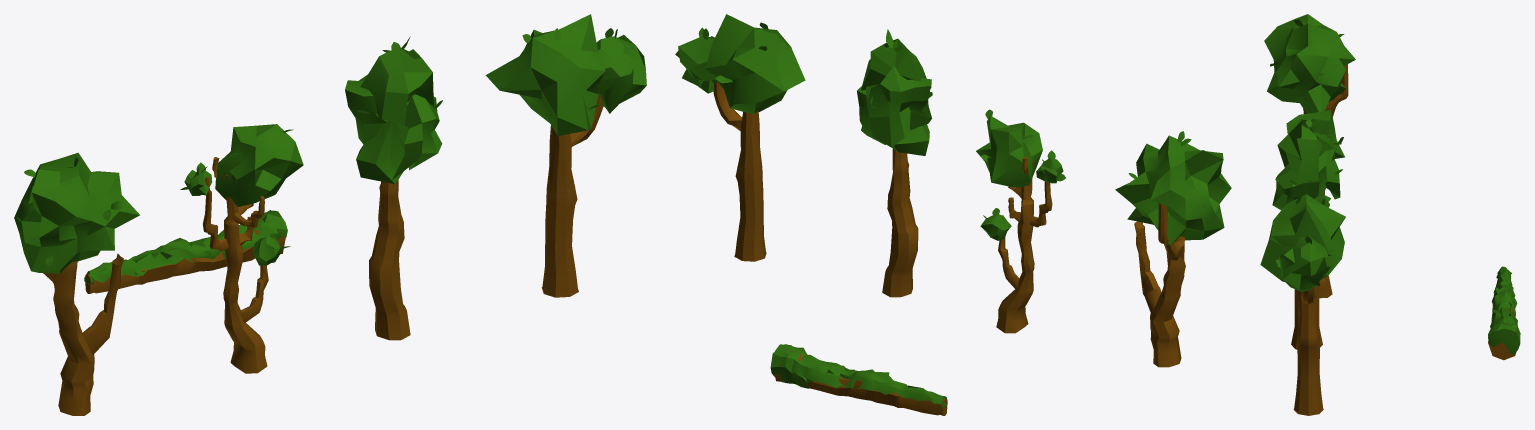
Rendered from 1trees.fbx.
3 views of the same model, side by side, from view 1: azimuth 30°, elevation 25°; view 2: azimuth 150°, elevation 25°; view 3: azimuth 270°, elevation 25° (orthographic). The views are drawn at different scales.
Visible parts, largest first — view 1: foliage_, foliage_4, Foliage_2, foliage_3, tree_2, tree_1, tree_4, tree_3, moss, tree; view 2: foliage_4, foliage_, Foliage_2, tree_1, tree_4, foliage_3, tree_2, moss, tree_3, tree; view 3: foliage_4, foliage_, Foliage_2, tree_4, moss, foliage_3, tree_3, tree_1, tree.
Part boxes in pixels (box(x1,y1,x2,y2)): foliage_: box(485, 14, 646, 135); foliage_4: box(14, 152, 139, 273); Foliage_2: box(345, 46, 442, 184); foliage_3: box(184, 124, 303, 265); tree_2: box(203, 157, 268, 373); tree_1: box(43, 253, 123, 415); tree_4: box(541, 94, 603, 297); tree_3: box(369, 180, 410, 340); moss: box(84, 210, 287, 284); tree: box(85, 218, 285, 293); foliage_4: box(1115, 135, 1231, 245); foliage_: box(675, 14, 805, 114); Foliage_2: box(857, 38, 931, 155); tree_1: box(1134, 203, 1185, 367); tree_4: box(713, 82, 766, 261); foliage_3: box(976, 115, 1063, 240); tree_2: box(996, 157, 1052, 333); moss: box(770, 344, 947, 408); tree_3: box(882, 148, 918, 297); tree: box(775, 350, 947, 415); foliage_4: box(1264, 14, 1355, 113); foliage_: box(1260, 194, 1345, 291); Foliage_2: box(1272, 120, 1340, 209); tree_4: box(1293, 285, 1323, 415); moss: box(1488, 266, 1520, 355); foliage_3: box(1286, 110, 1344, 158); tree_3: box(1291, 286, 1322, 349); tree_1: box(1303, 64, 1348, 194); tree: box(1488, 291, 1516, 360).
Size of the model in its own units: 2297 by 1094 by 1055.
